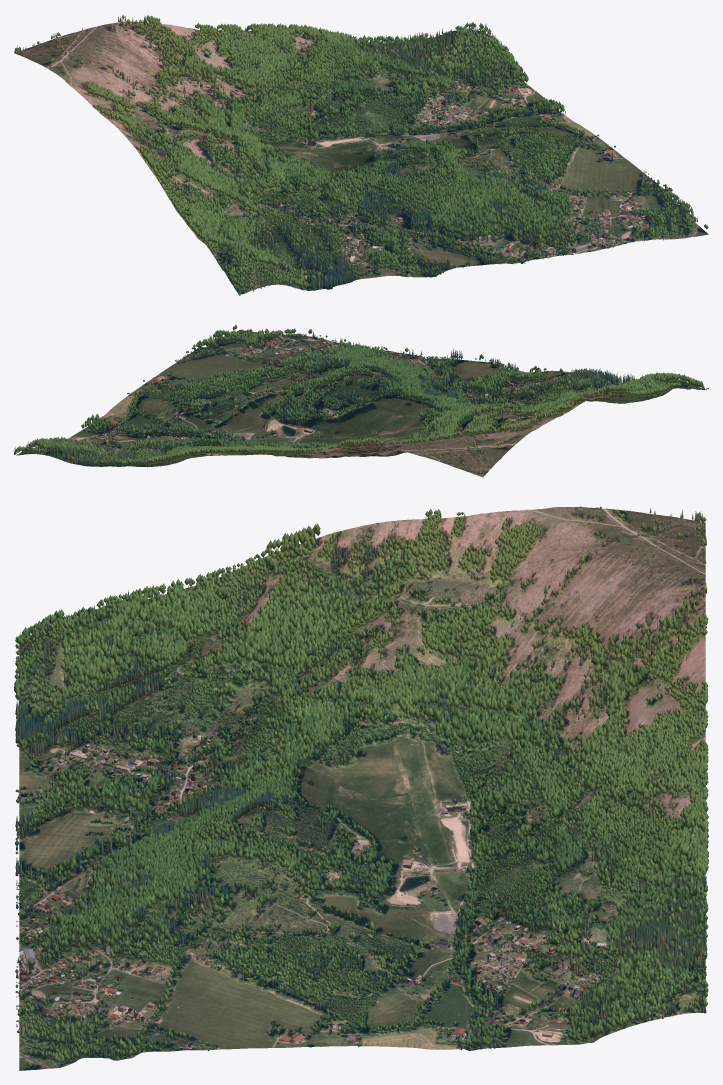
File: opalena-leto.glb
3 renders of one model, top to bottom at view 1: azimuth 30°, elevation 25°; view 2: azimuth 150°, elevation 25°; view 3: azimuth 270°, elevation 25°, orthographic. The views are drawn at different scales.
Parts seen in each view (by area): view 1: Trees.001, Terrain.001, Buildings; view 2: Trees.001, Terrain.001, Buildings; view 3: Trees.001, Terrain.001, Buildings.
Part boxes in pixels (x1=…): Trees.001: x1=14, y1=15, x2=708, y2=295; Terrain.001: x1=15, y1=21, x2=708, y2=294; Buildings: x1=277, y1=70, x2=668, y2=277; Trees.001: x1=14, y1=325, x2=708, y2=476; Terrain.001: x1=16, y1=329, x2=706, y2=477; Buildings: x1=74, y1=330, x2=560, y2=451; Trees.001: x1=14, y1=506, x2=708, y2=1067; Terrain.001: x1=19, y1=507, x2=705, y2=1070; Buildings: x1=18, y1=715, x2=611, y2=1047.
Size of the model in its own units: 1615 by 471 by 1343.
Materials: 2 (1 with a texture image).
